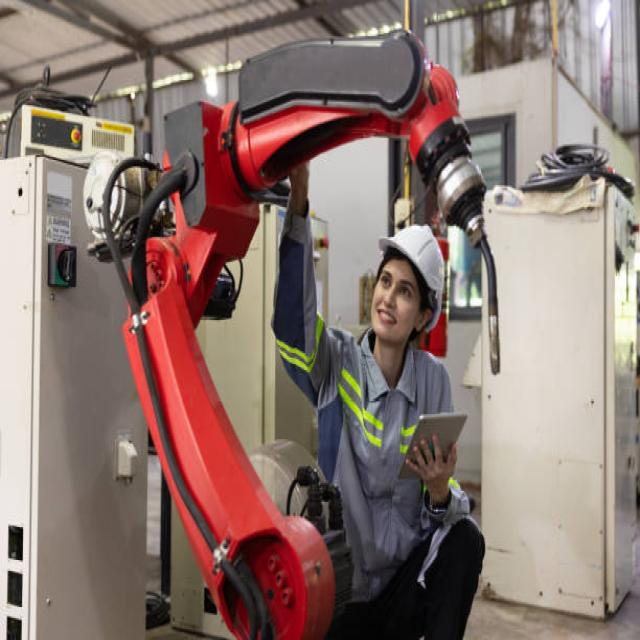Robotic-arm: (113, 33, 504, 640)
